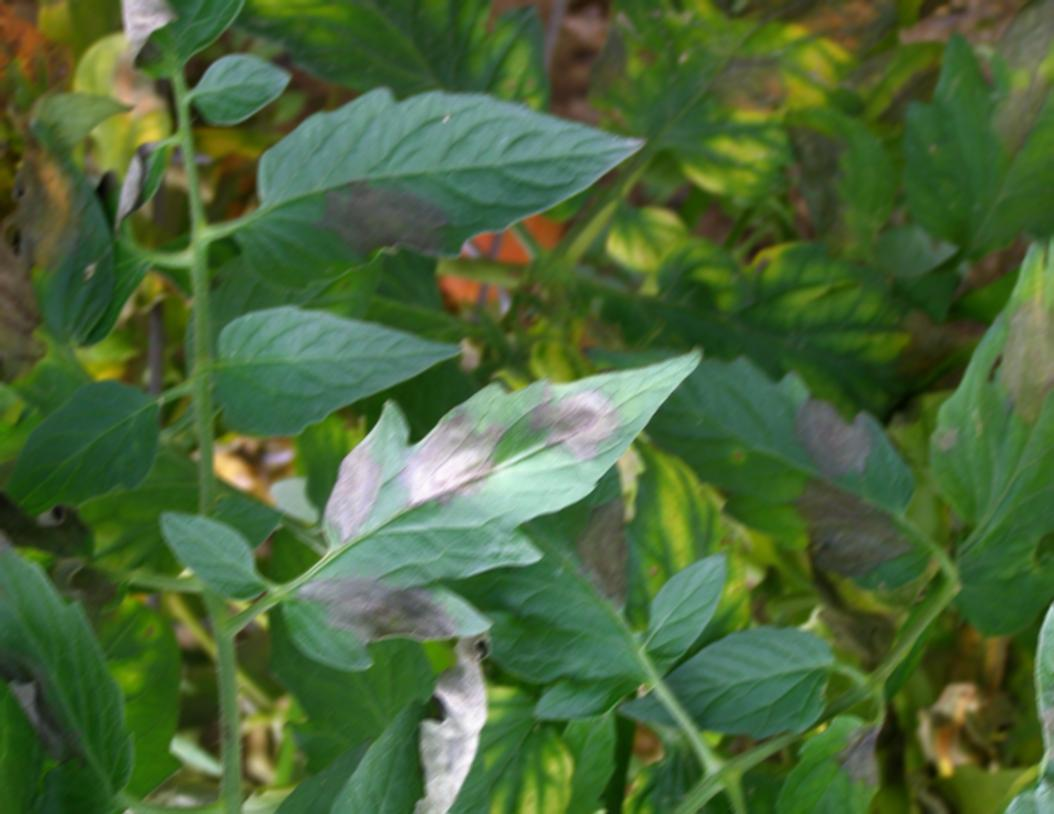Tomato leaf late blight: (265, 364, 697, 646), (221, 83, 657, 272), (622, 360, 933, 604), (919, 172, 1054, 652), (0, 413, 141, 814), (25, 130, 118, 374), (761, 704, 894, 814)
